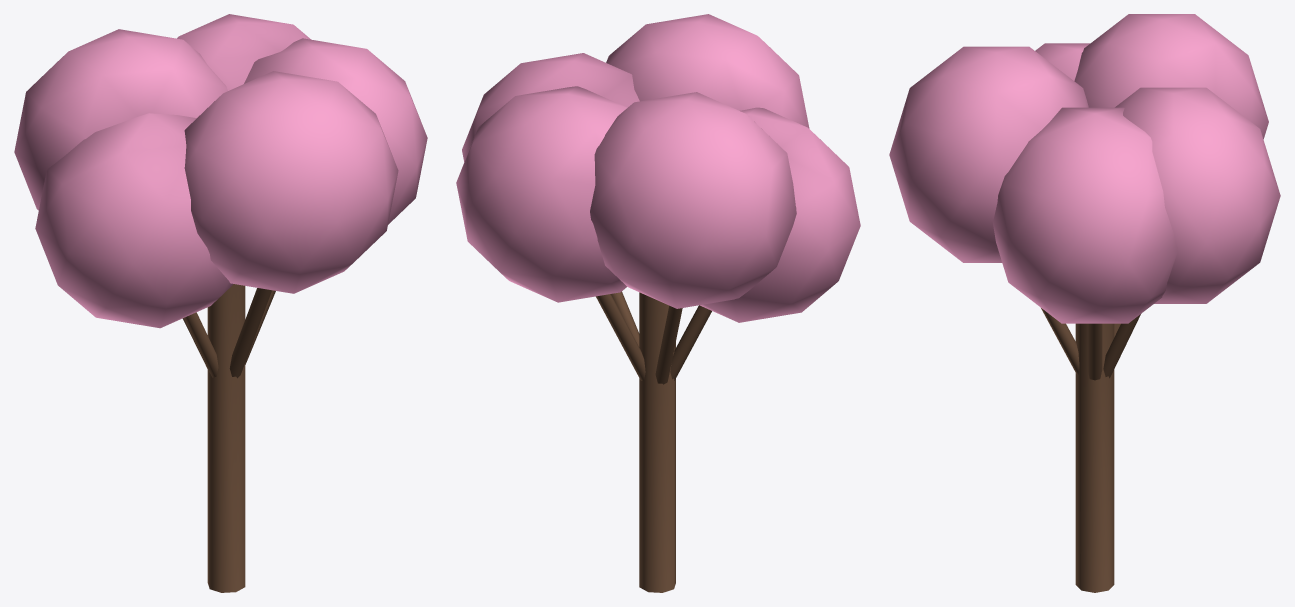
The model's file is tree-blossom-low.glb.
3 views of the same model, side by side, from view 1: azimuth 30°, elevation 25°; view 2: azimuth 150°, elevation 25°; view 3: azimuth 270°, elevation 25° (orthographic). The views are drawn at different scales.
Parts seen in each view (by area): view 1: pink blossom crown, tree trunk; view 2: pink blossom crown, tree trunk; view 3: pink blossom crown, tree trunk.
Boxes of the visible parts, x1,y1,x2,y2 form: pink blossom crown: (14, 14, 427, 328); tree trunk: (182, 284, 275, 592); pink blossom crown: (456, 14, 860, 322); tree trunk: (596, 291, 711, 592); pink blossom crown: (889, 14, 1280, 323); tree trunk: (1041, 308, 1140, 592).
Size of the model in its own units: 1.53 by 2.15 by 1.42.
